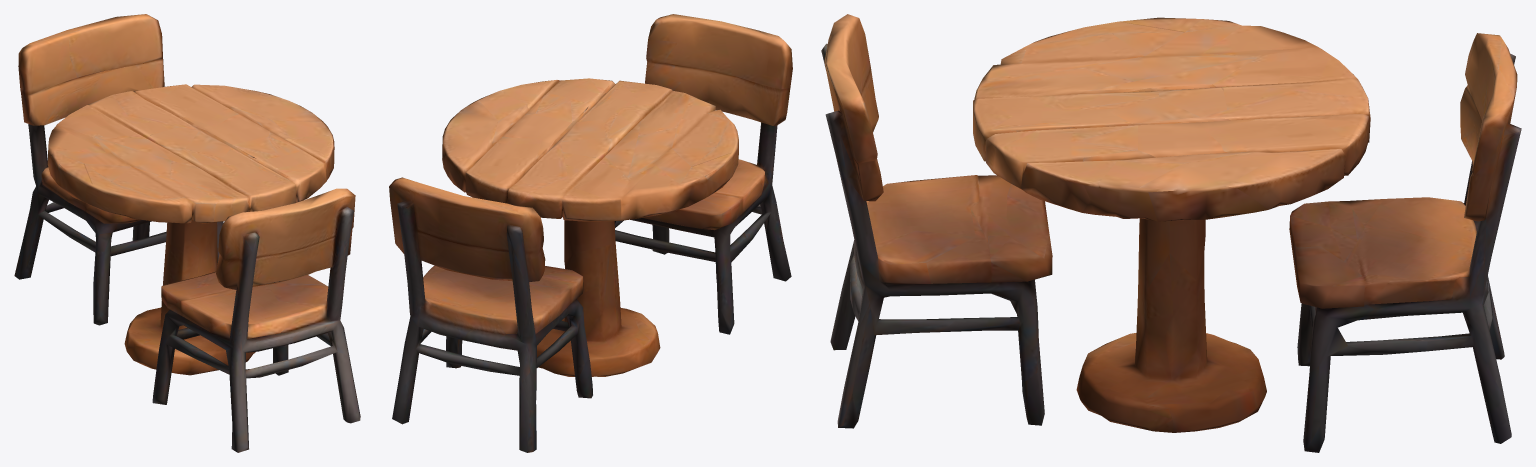
The model's file is cafe.glb.
3 views of the same model, side by side, from view 1: azimuth 30°, elevation 25°; view 2: azimuth 150°, elevation 25°; view 3: azimuth 270°, elevation 25° (orthographic). The views are drawn at different scales.
Visible parts, largest first — view 1: tripo_node_01a21d84-84f4-7487-9c09-2fa262474918; view 2: tripo_node_01a21d84-84f4-7487-9c09-2fa262474918; view 3: tripo_node_01a21d84-84f4-7487-9c09-2fa262474918.
Boxes of the visible parts, <box> form: tripo_node_01a21d84-84f4-7487-9c09-2fa262474918: <box>14,14,360,452</box>; tripo_node_01a21d84-84f4-7487-9c09-2fa262474918: <box>389,14,792,452</box>; tripo_node_01a21d84-84f4-7487-9c09-2fa262474918: <box>821,14,1521,452</box>.
Bounding box in the file's own units: 1.1 × 0.9863 × 1.9.
Materials: 1 (1 with a texture image).
